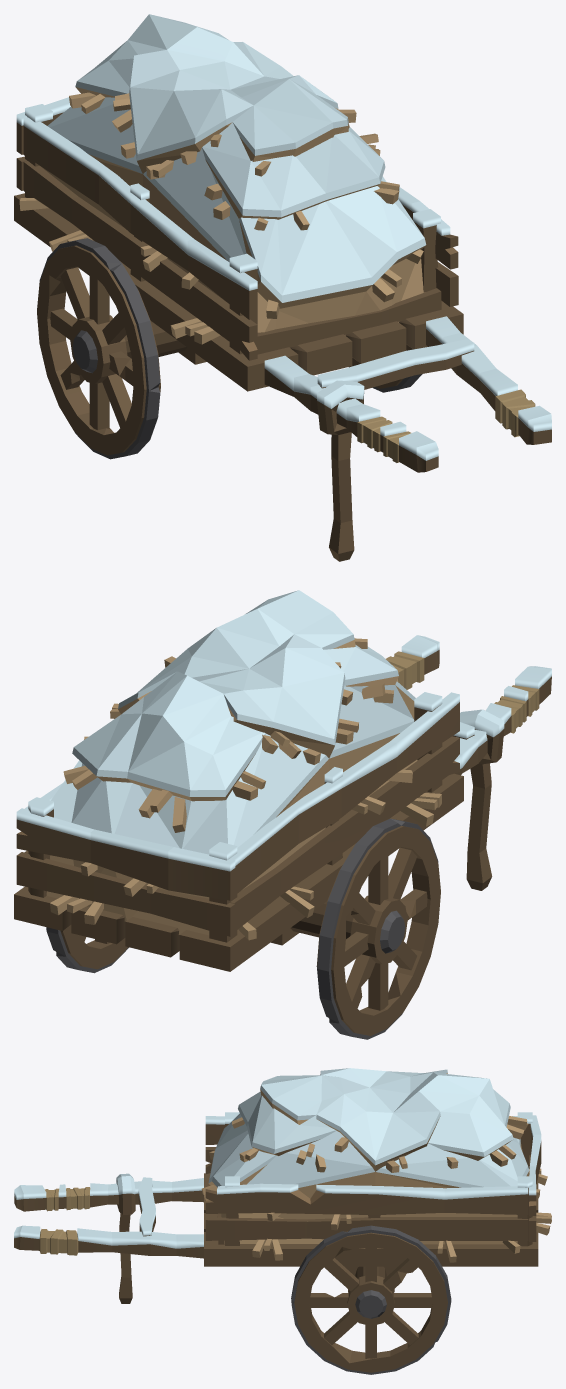
File: SM_Prop_CartHay_01_Snow.gltf
3 renders of one model, top to bottom at view 1: azimuth 30°, elevation 25°; view 2: azimuth 150°, elevation 25°; view 3: azimuth 270°, elevation 25°, orthographic. The views are drawn at different scales.
Visible parts, largest first — view 1: SM_Prop_CartHay_01_Snow; view 2: SM_Prop_CartHay_01_Snow; view 3: SM_Prop_CartHay_01_Snow.
Part boxes in pixels (x1=…): SM_Prop_CartHay_01_Snow: x1=14, y1=14, x2=551, y2=561; SM_Prop_CartHay_01_Snow: x1=14, y1=590, x2=551, y2=1039; SM_Prop_CartHay_01_Snow: x1=14, y1=1068, x2=551, y2=1374.
Bounding box in the file's own units: 1.52 × 1.69 × 3.22.
1 material, 1 textured.
